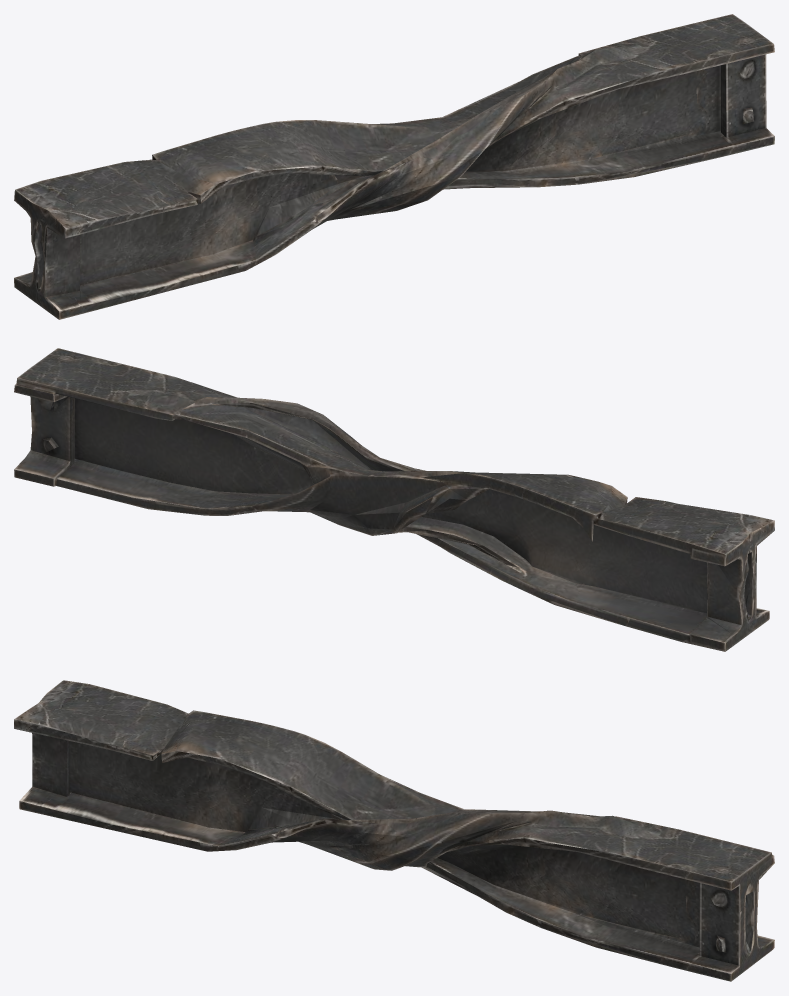
File: shared_rubble_kit__girder_long_bent_lod1.glb
3 renders of one model, top to bottom at view 1: azimuth 30°, elevation 25°; view 2: azimuth 150°, elevation 25°; view 3: azimuth 330°, elevation 25°, orthographic.
Parts seen in each view (by area): view 1: mesh_node; view 2: mesh_node; view 3: mesh_node.
Part boxes in pixels (left/top/right/bottom): mesh_node: left=14, top=14, right=774, bottom=319; mesh_node: left=14, top=348, right=774, bottom=651; mesh_node: left=14, top=680, right=774, bottom=981.
Bounding box in the file's own units: 6.09 × 0.9065 × 0.7669.
Materials: 1 (1 with a texture image).
